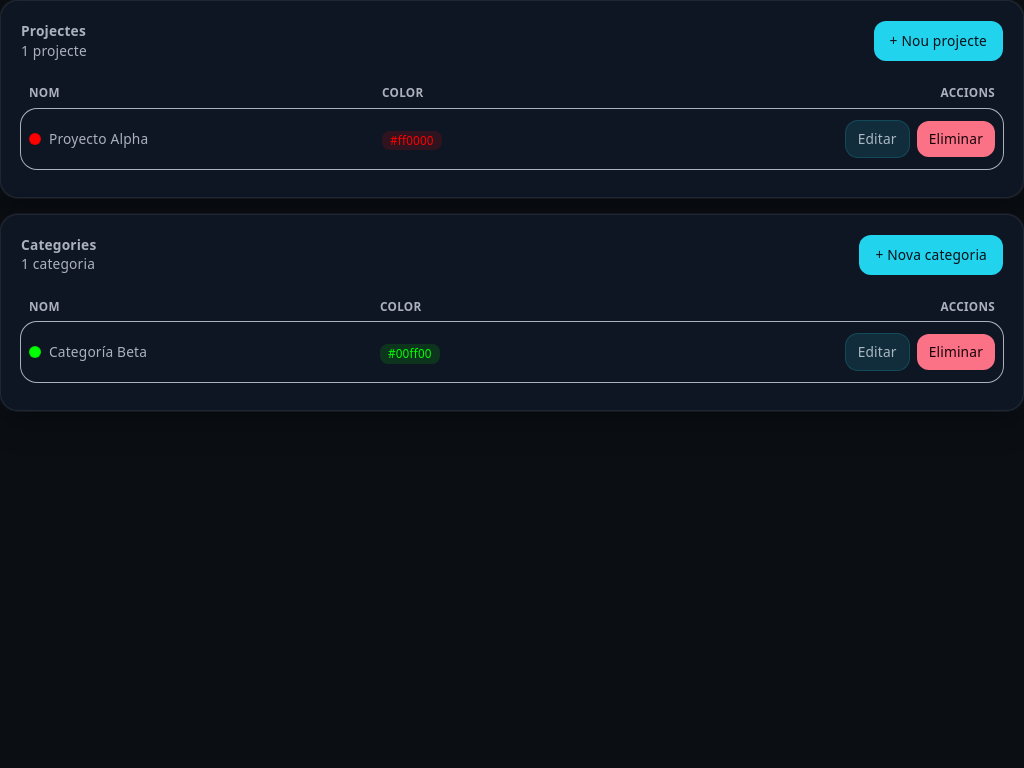
Test: TasksManagePage › opens new category modal
Click the button "+ Nova categoria" at x=931, y=255, box [859, 235, 1003, 275]
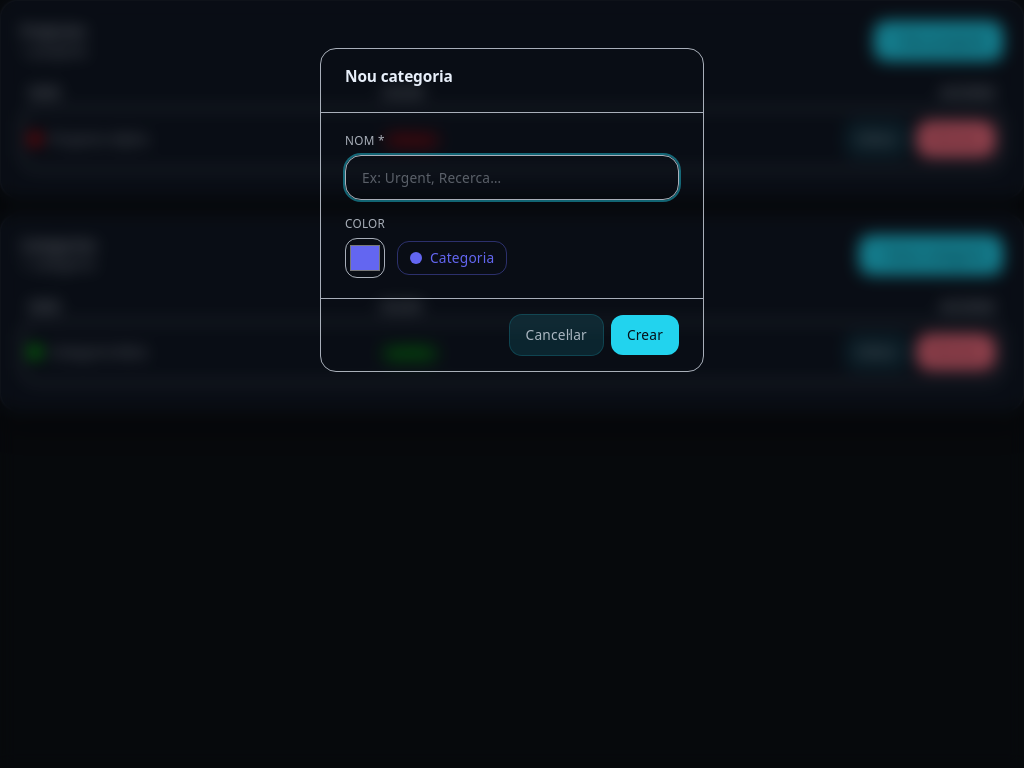
Now the dialog is shown
